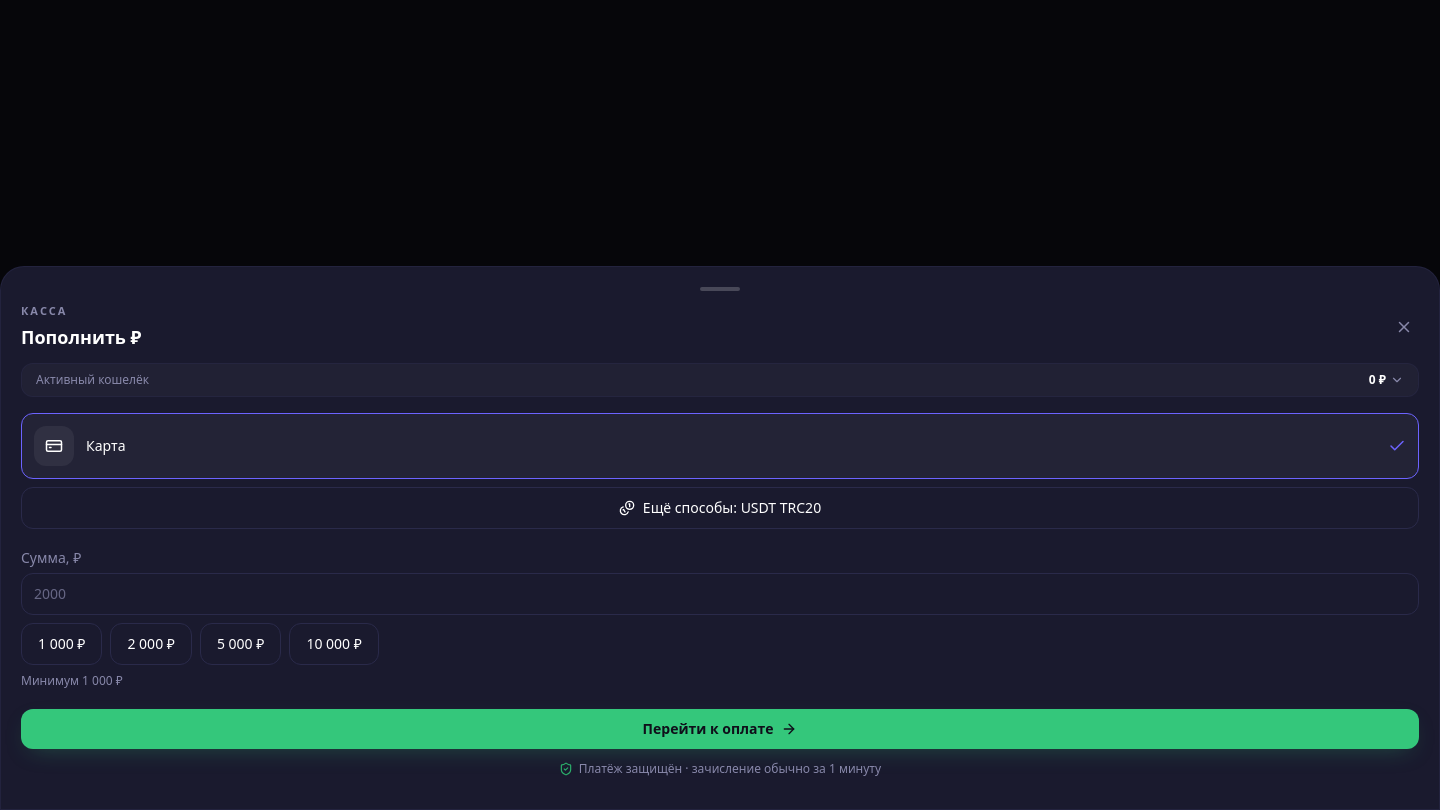
Test: Отказ платёжной системы › вместо текста провайдера говорит, что деньги не списаны
Step 1. Type "5000" into the field with placeholder "2000" → (720, 594), box [21, 573, 1419, 615]
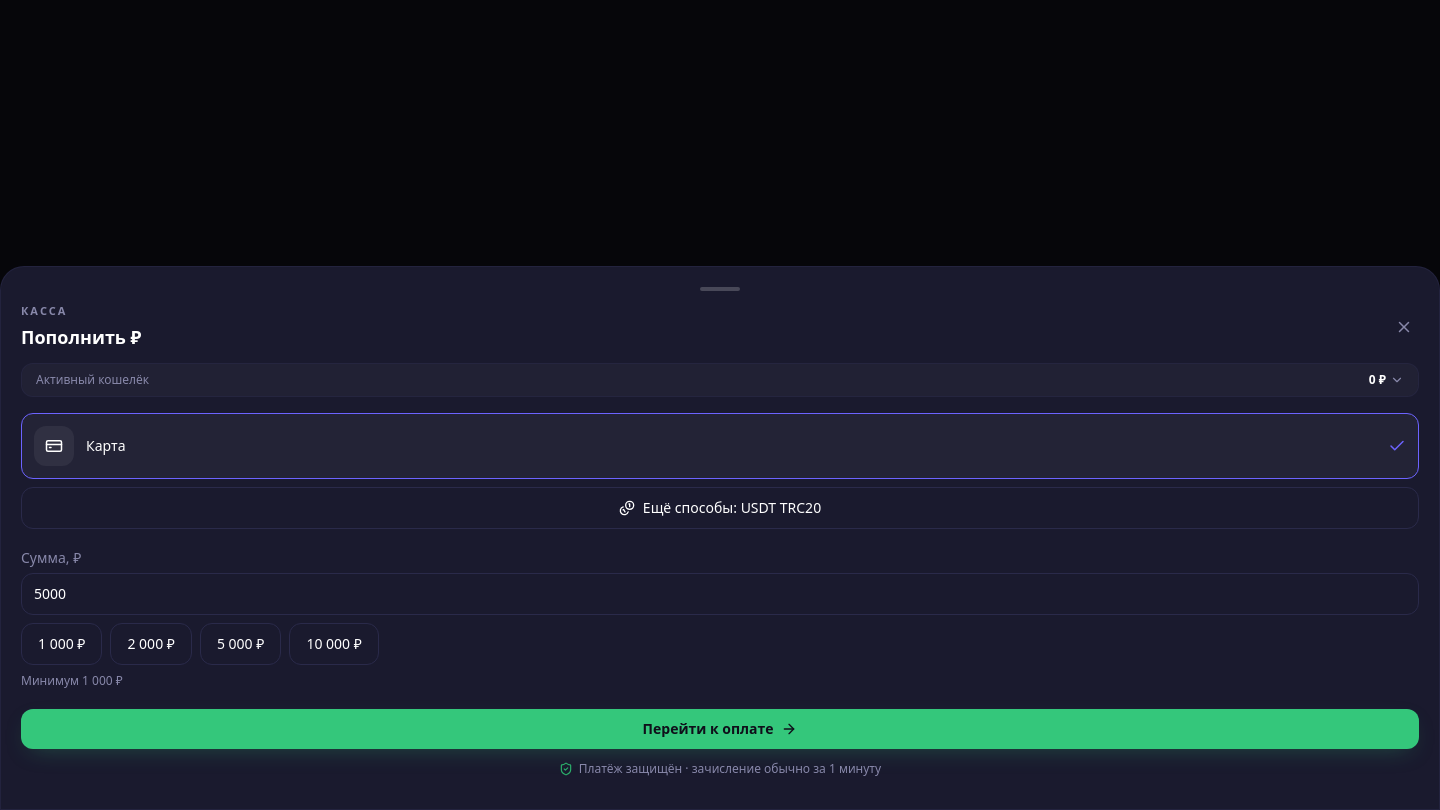
Step 2. Click the button "Перейти к оплате" → (720, 729), box [21, 709, 1419, 749]
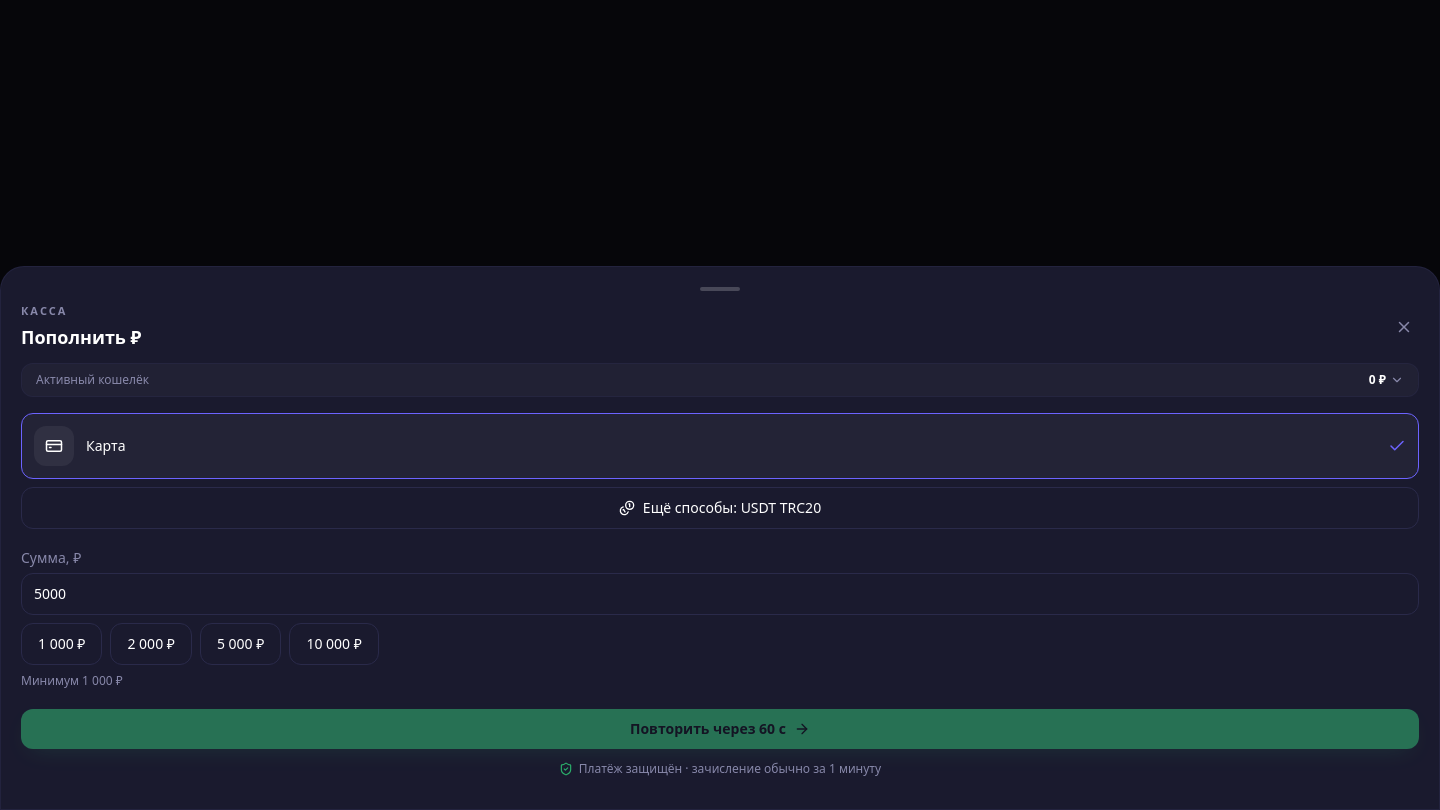
Expected: the button "Повторить через 60 с" is disabled, [21, 709, 1419, 749]
Expected: the button "Перейти к оплате" is gone
